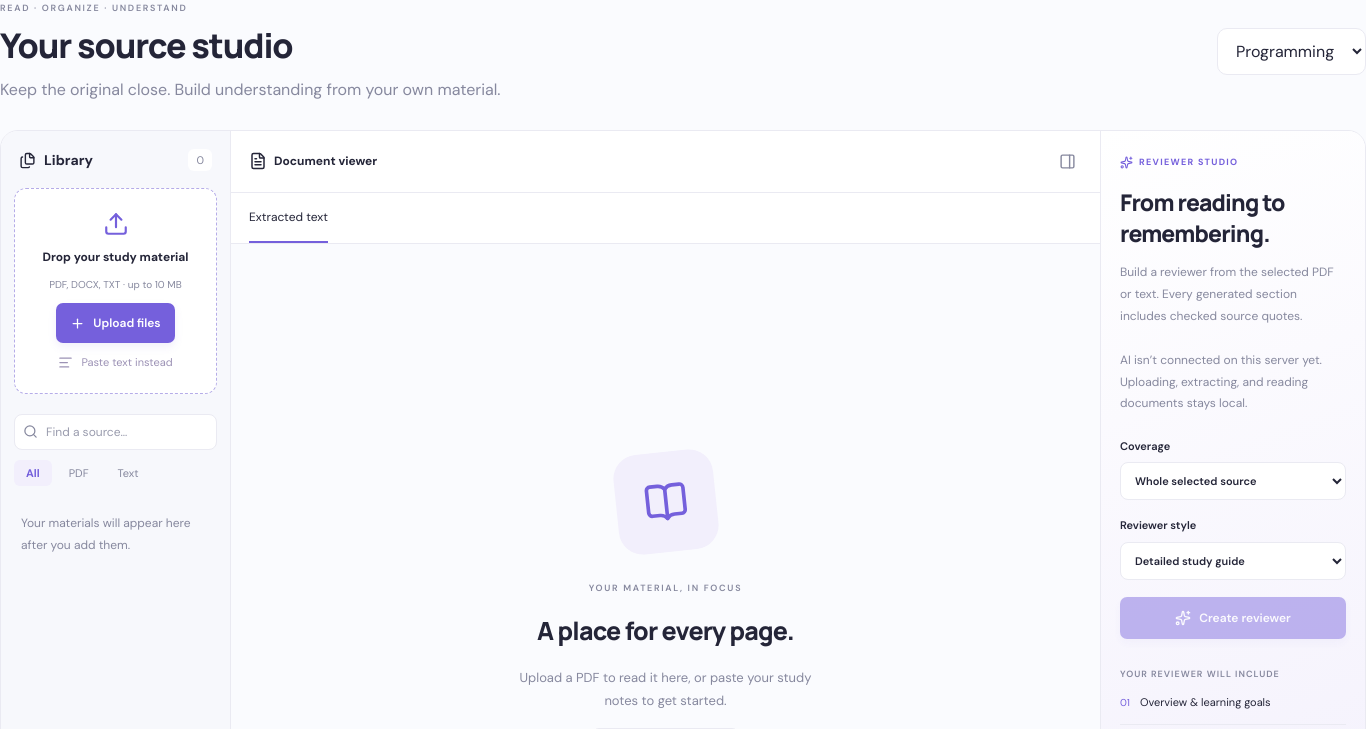
saves pasted material through the existing document ingestion pipeline
Click the button "Paste text instead" at (116, 363), box [58,354,173,371]
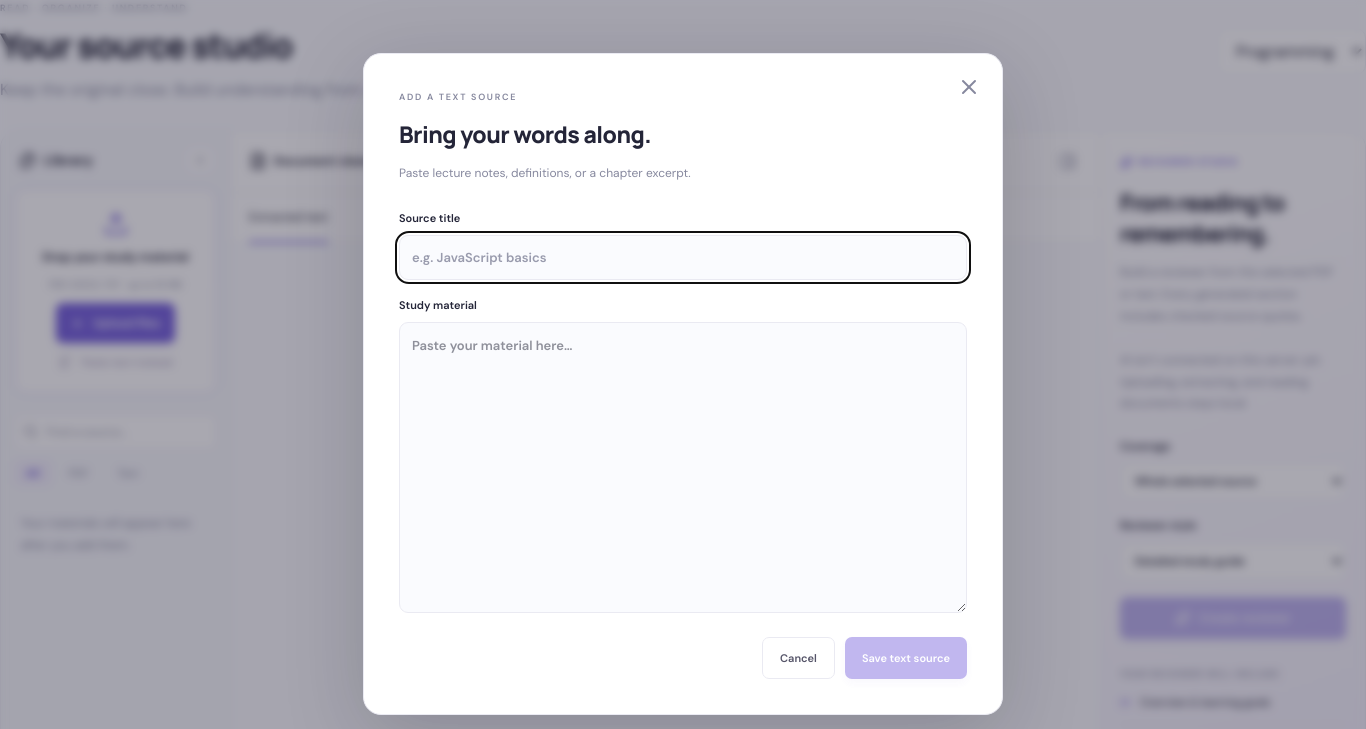
Type "JavaScript basics" into the field labelled "Source title" at (683, 257), box [399,235,967,280]
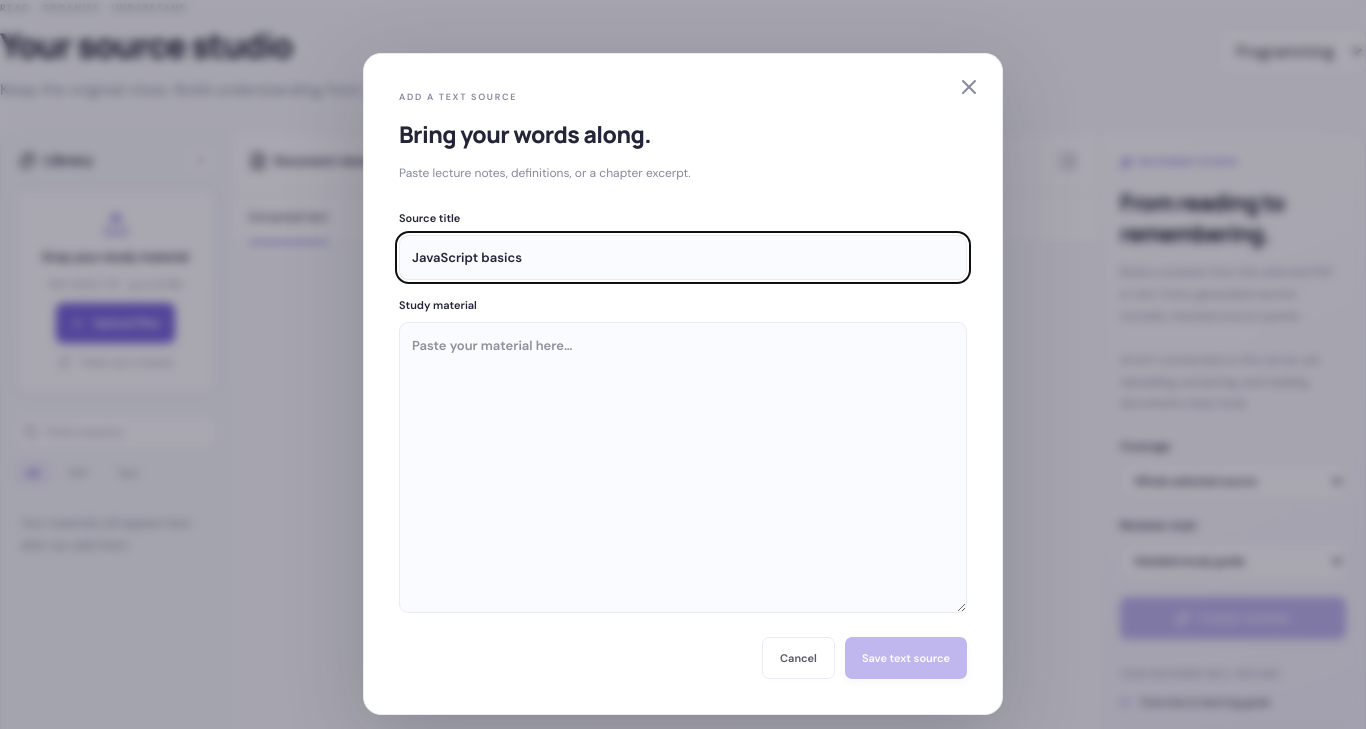
Type "Variables store values." into the text box labelled "Study material" at (683, 467), box [399,322,967,613]
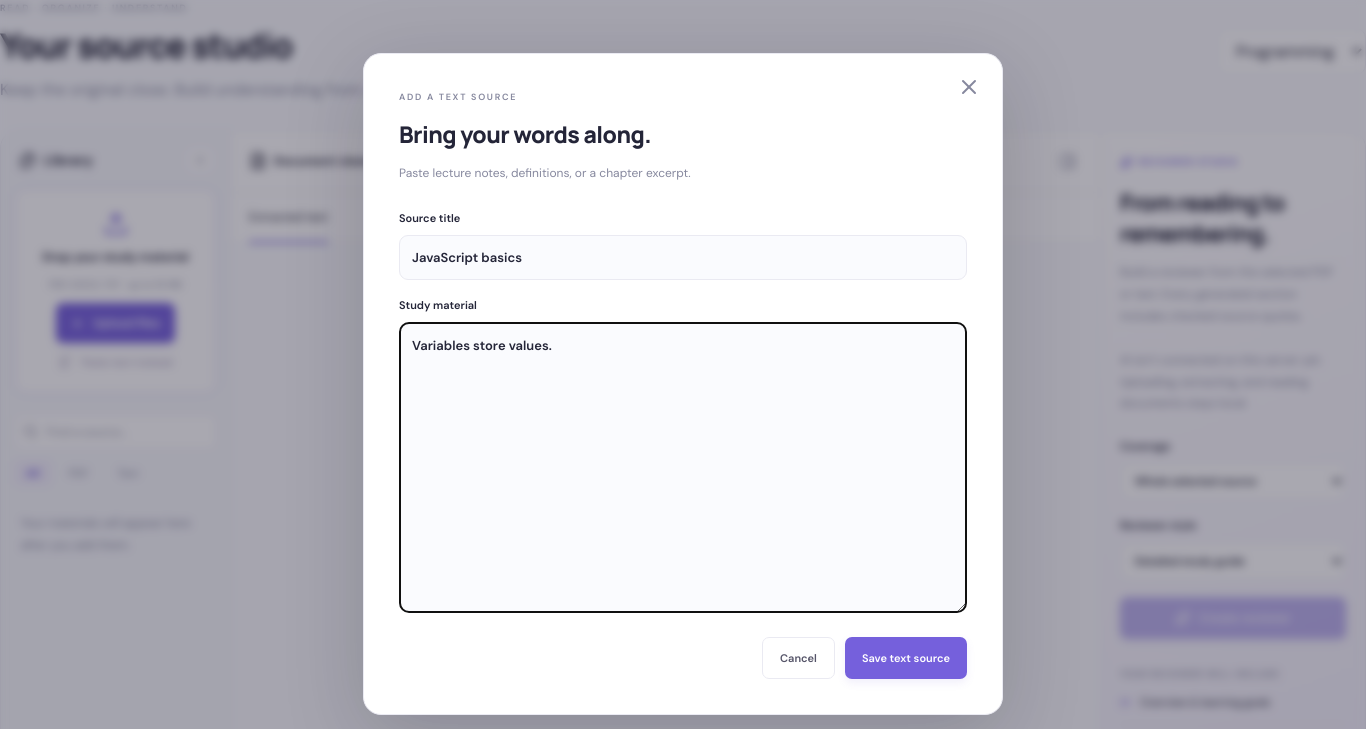
Click the button "Save text source" at (906, 658), box [845,637,967,679]
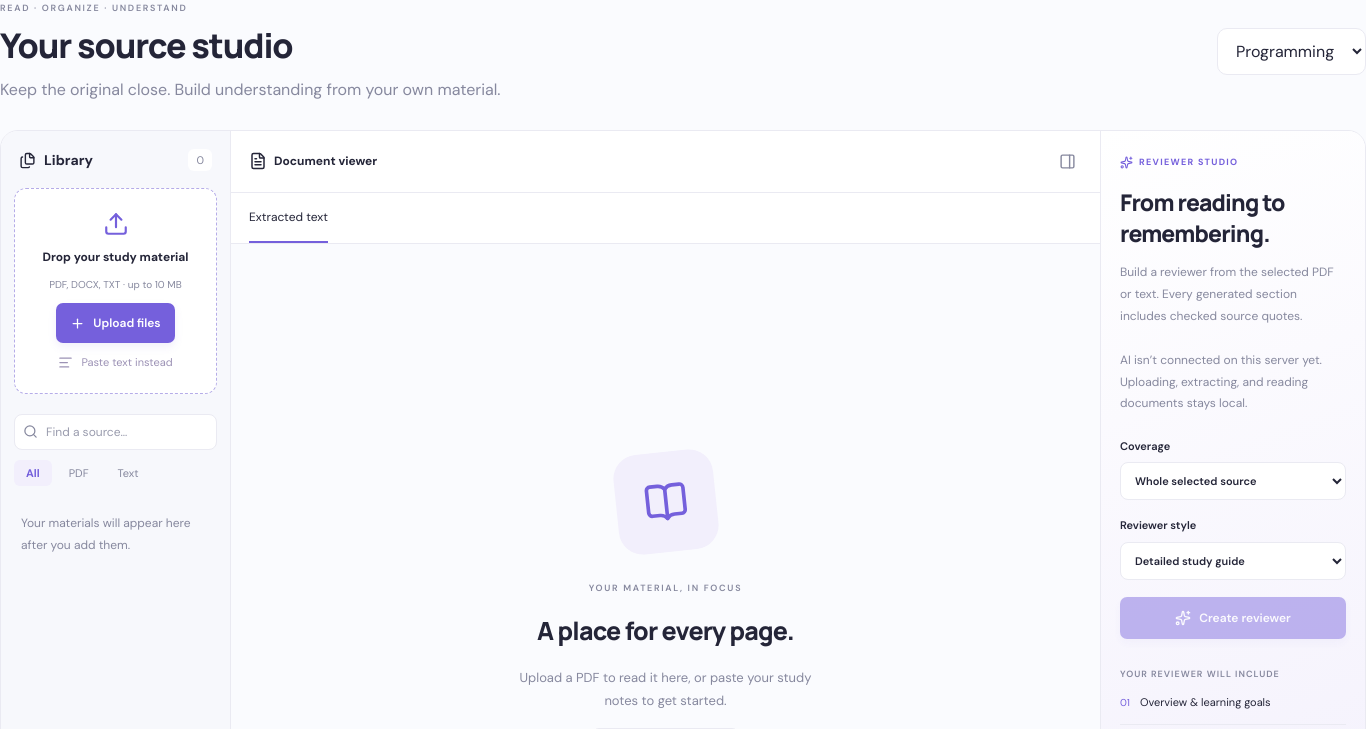
Now the dialog is gone
